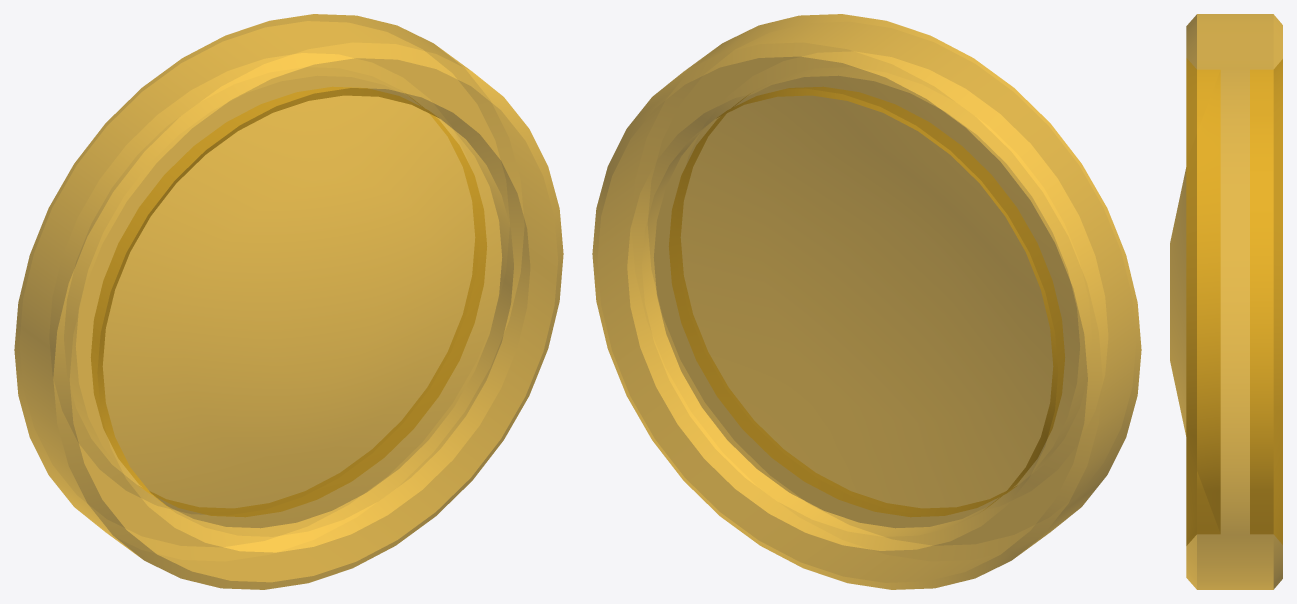
The model's file is moeda.fbx.
3 renders of one model, left to right at view 1: azimuth 30°, elevation 25°; view 2: azimuth 150°, elevation 25°; view 3: azimuth 270°, elevation 25°, orthographic.
Parts seen in each view (by area): view 1: Cylinder; view 2: Cylinder; view 3: Cylinder.
Part boxes in pixels (<box>): Cylinder: <box>14,14,563,589</box>; Cylinder: <box>592,14,1141,589</box>; Cylinder: <box>1170,14,1282,589</box>.
Bounding box in the file's own units: 57.88 × 57.88 × 11.3.
